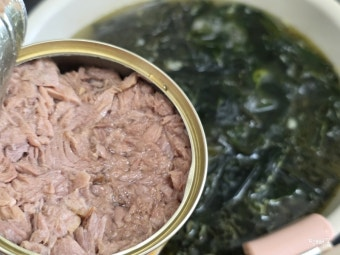paper: (0, 1, 198, 253)
